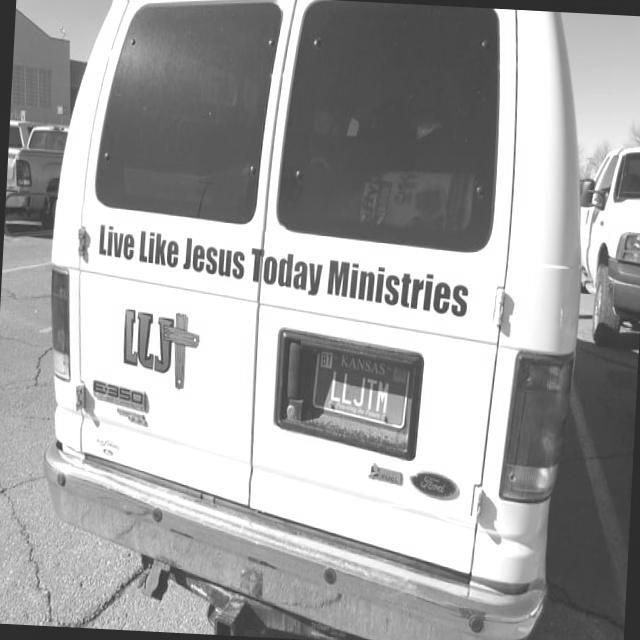LicensePlate: (313, 348, 411, 431)
